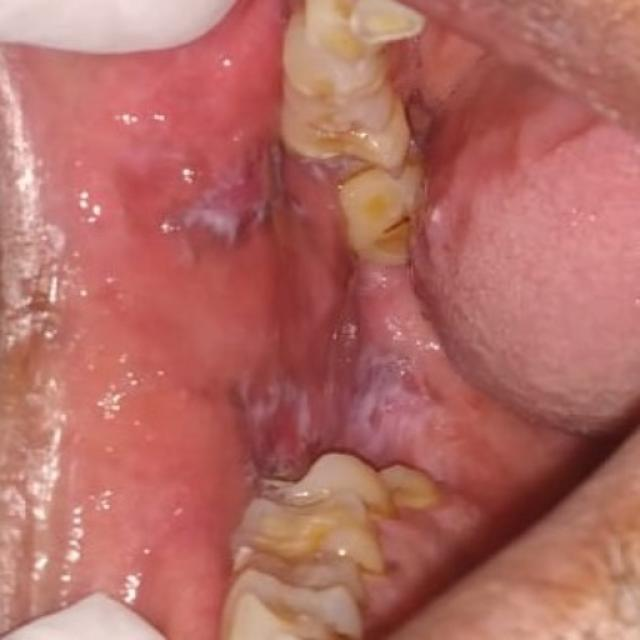leukoplakia-like-detection: (134, 124, 480, 475)
processing_area: (18, 0, 639, 639)
